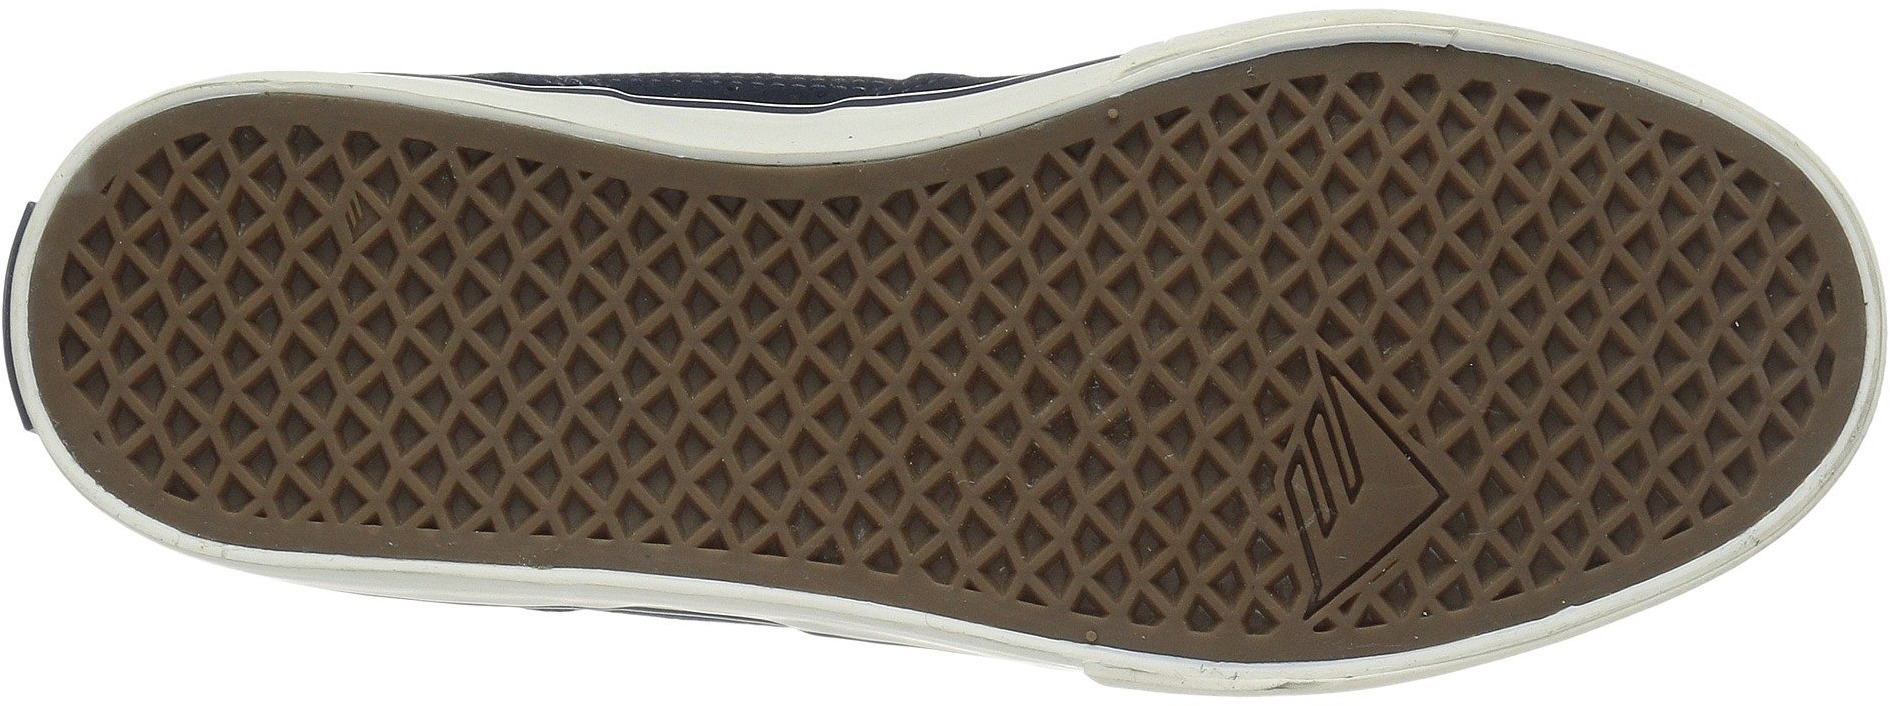chevron: (1232, 381, 1465, 611)
quad: (633, 186, 1014, 548), (163, 155, 536, 508), (1201, 98, 1503, 386), (1521, 186, 1775, 436)
